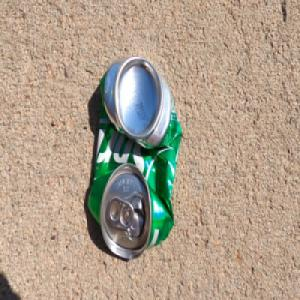SodaCan: (87, 51, 184, 259)
